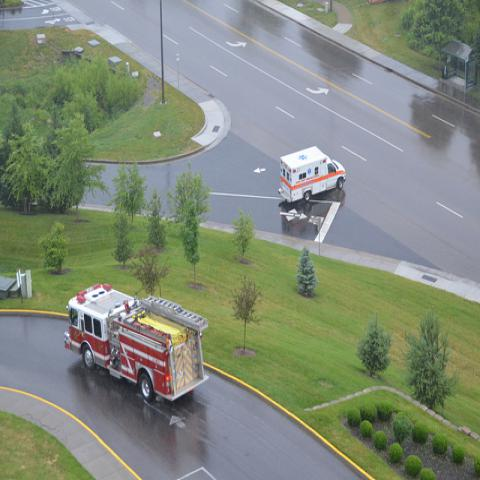truck: (66, 274, 210, 405), (278, 145, 346, 203)
